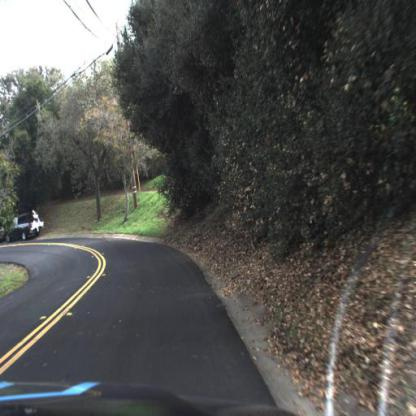car: (5, 203, 46, 251), (6, 207, 46, 248)
pedestrian: (25, 219, 51, 235)
